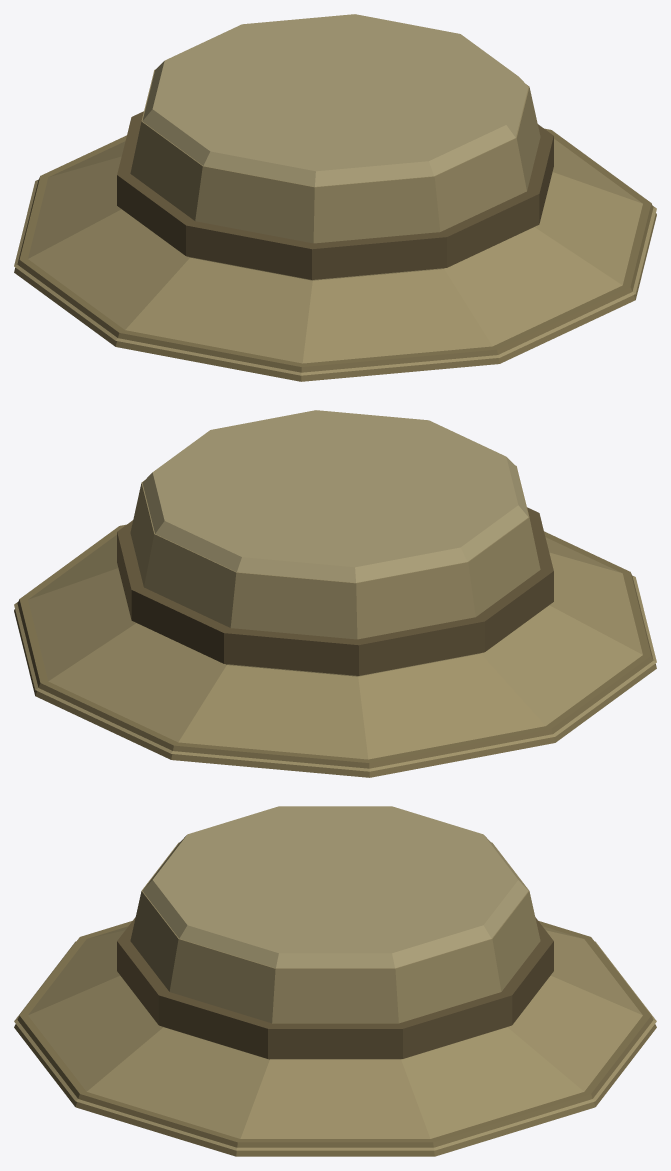
Rendered from char_hat_bucket_hat.glb.
3 renders of one model, top to bottom at view 1: azimuth 30°, elevation 25°; view 2: azimuth 150°, elevation 25°; view 3: azimuth 270°, elevation 25°, orthographic. The views are drawn at different scales.
Parts seen in each view (by area): view 1: Hat; view 2: Hat; view 3: Hat.
Part boxes in pixels (x1=…): Hat: x1=14, y1=14, x2=656, y2=381; Hat: x1=14, y1=410, x2=656, y2=777; Hat: x1=14, y1=806, x2=656, y2=1156.
Bounding box in the file's own units: 0.5516 × 0.147 × 0.58.
